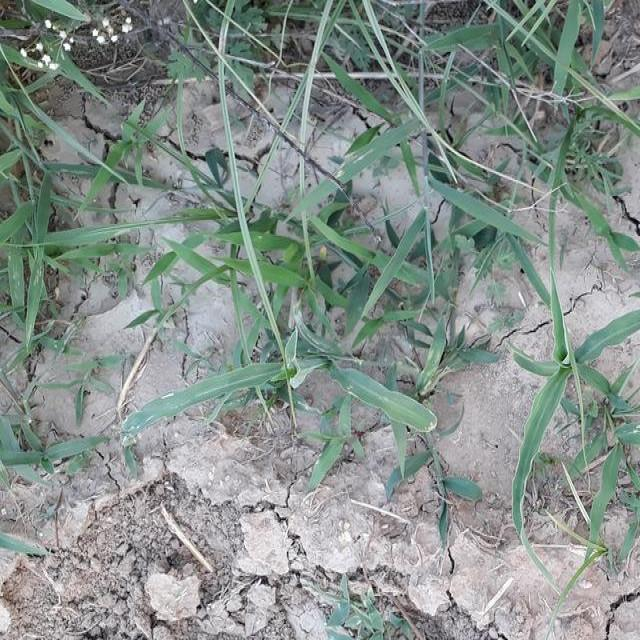weed: (160, 163, 510, 423), (160, 0, 636, 150), (0, 0, 113, 359)
